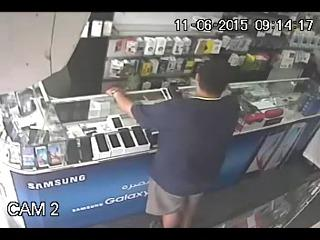Normal: (143, 62, 143, 62)
shoplifting: (110, 62, 241, 227)
